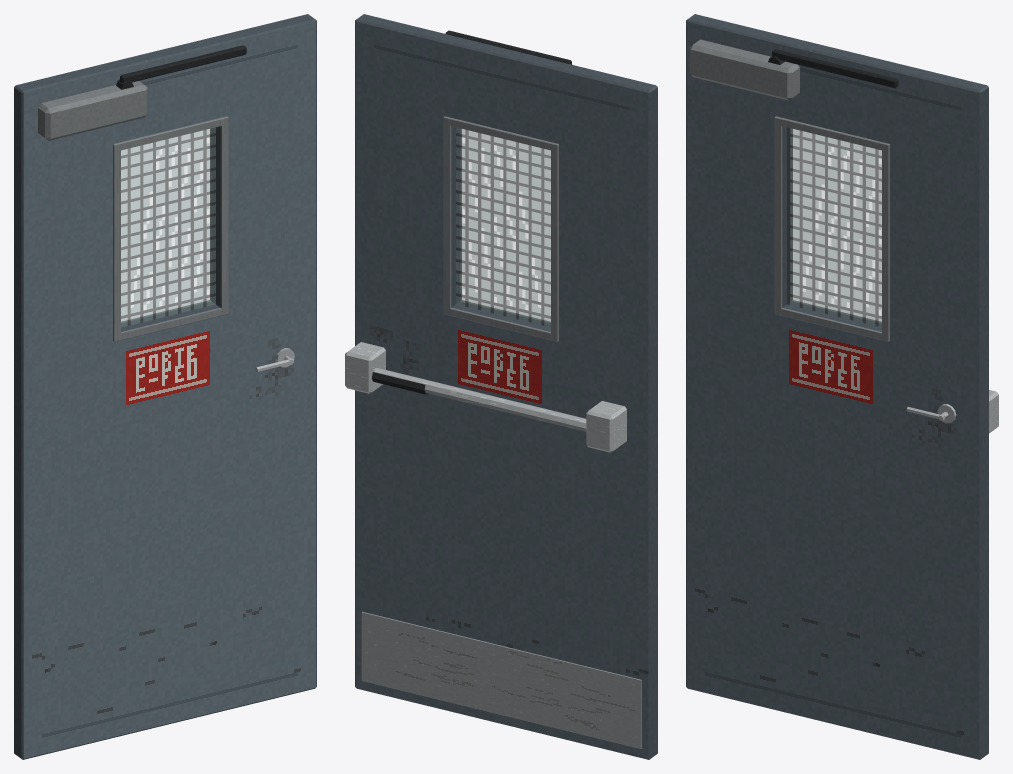
Rendered from door_fire_2.glb.
The picture shows the model from 3 angles, left to right: view 1: azimuth 30°, elevation 25°; view 2: azimuth 150°, elevation 25°; view 3: azimuth 330°, elevation 25°; orthographic projection.
Parts seen in each view (by area): view 1: leaf_body, door_glass, glass_bead_front, door_closer, door_closer_arm, glass_bead_back; view 2: leaf_body, kick_plate, door_glass, panic_bar, glass_bead_back, door_closer_arm, panic_bar_pad; view 3: leaf_body, door_glass, glass_bead_front, door_closer, door_closer_arm.
Part boxes in pixels (x1=…): leaf_body: x1=14, y1=14, x2=316, y2=759; door_glass: x1=121, y1=127, x2=215, y2=327; glass_bead_front: x1=113, y1=116, x2=228, y2=341; door_closer: x1=38, y1=81, x2=147, y2=140; door_closer_arm: x1=116, y1=45, x2=246, y2=89; glass_bead_back: x1=121, y1=128, x2=211, y2=322; leaf_body: x1=355, y1=14, x2=657, y2=759; kick_plate: x1=361, y1=611, x2=641, y2=748; door_glass: x1=456, y1=127, x2=550, y2=327; panic_bar: x1=345, y1=342, x2=626, y2=452; glass_bead_back: x1=443, y1=116, x2=558, y2=341; door_closer_arm: x1=445, y1=30, x2=572, y2=64; panic_bar_pad: x1=372, y1=372, x2=428, y2=394; leaf_body: x1=686, y1=14, x2=988, y2=759; door_glass: x1=787, y1=127, x2=881, y2=327; glass_bead_front: x1=774, y1=116, x2=889, y2=341; door_closer: x1=689, y1=39, x2=799, y2=100; door_closer_arm: x1=768, y1=49, x2=898, y2=88.
Size of the model in its own units: 0.95 by 2.06 by 0.2031.
Materials: 2 (2 with a texture image).
